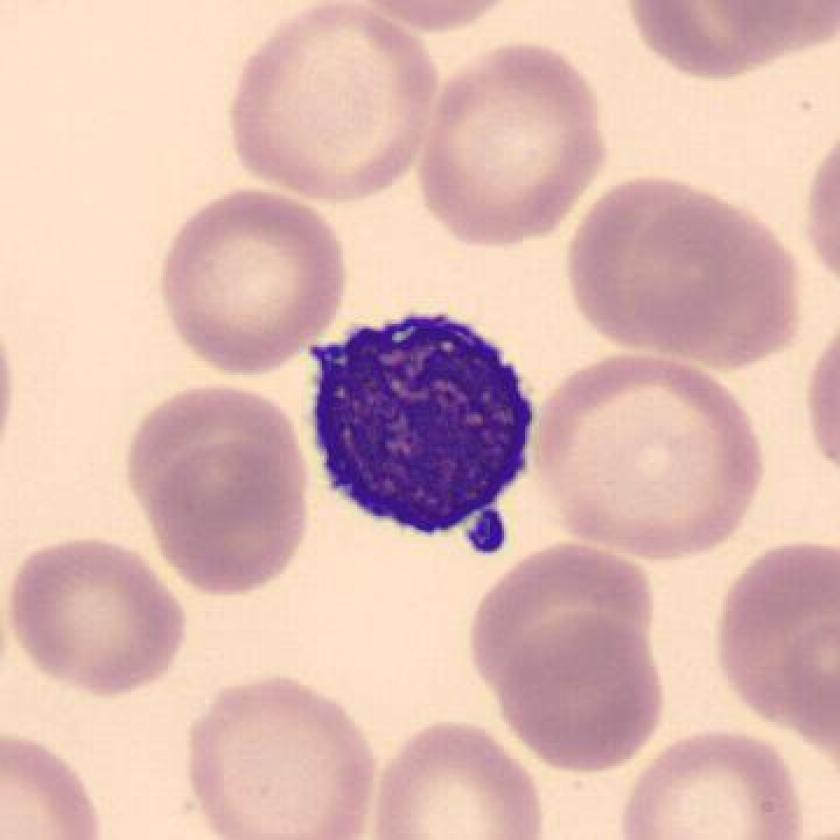lymphocyte: (295, 292, 549, 575)
